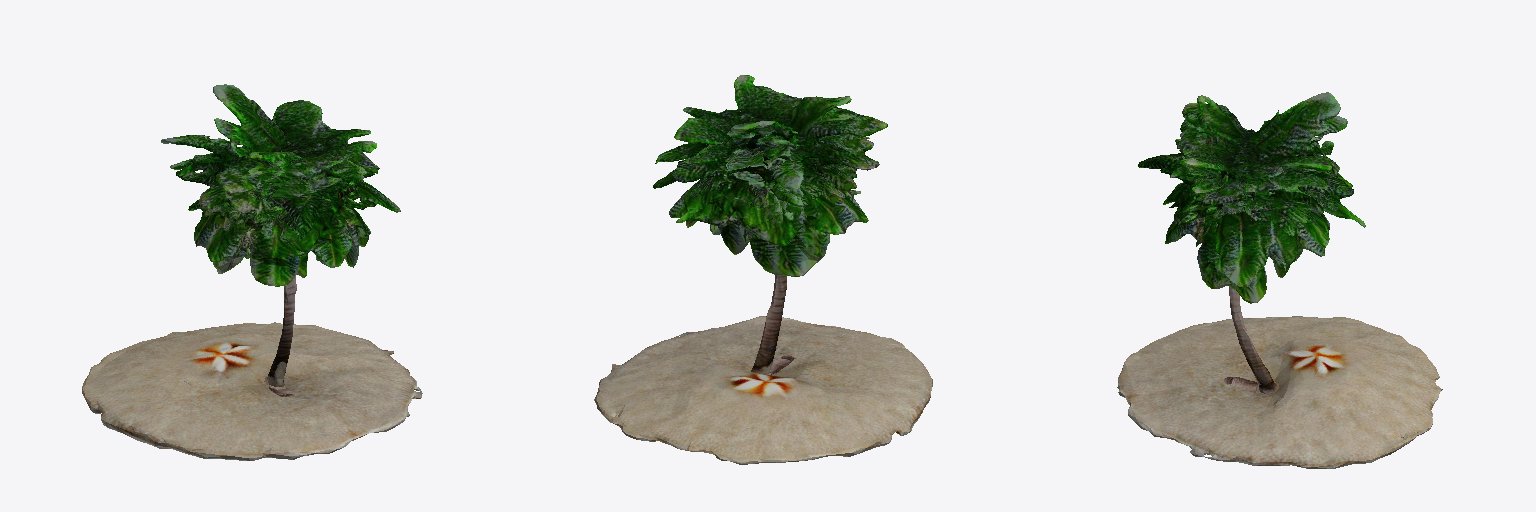
3 renders of one model, left to right at view 1: azimuth 30°, elevation 25°; view 2: azimuth 150°, elevation 25°; view 3: azimuth 270°, elevation 25°, orthographic.
Visible parts, largest first — view 1: mesh; view 2: mesh; view 3: mesh.
Part boxes in pixels (left/top/right/bottom): mesh: left=82, top=84, right=422, bottom=460; mesh: left=594, top=75, right=932, bottom=464; mesh: left=1117, top=92, right=1442, bottom=468.
Bounding box in the file's own units: 0.9877 × 0.9997 × 0.9474.
1 materials, 1 textured.